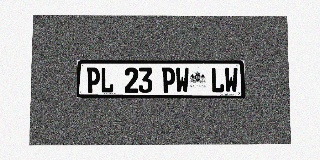2: (125, 67, 138, 93)
3: (139, 67, 152, 93)
L: (100, 67, 114, 93), (211, 67, 224, 93)
P: (86, 67, 100, 93), (162, 67, 175, 93)
W: (224, 67, 238, 93), (176, 67, 189, 93)
